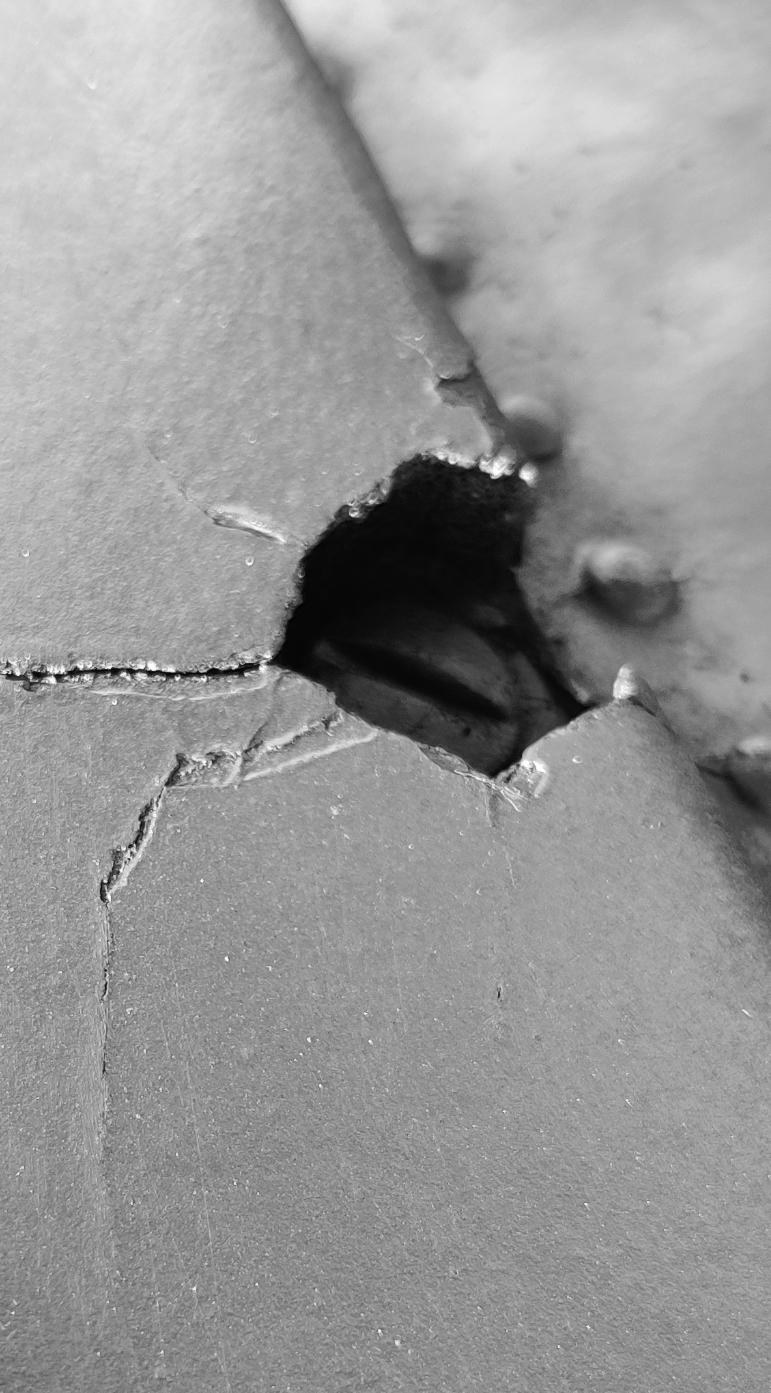crack: (0, 1, 771, 1393)
